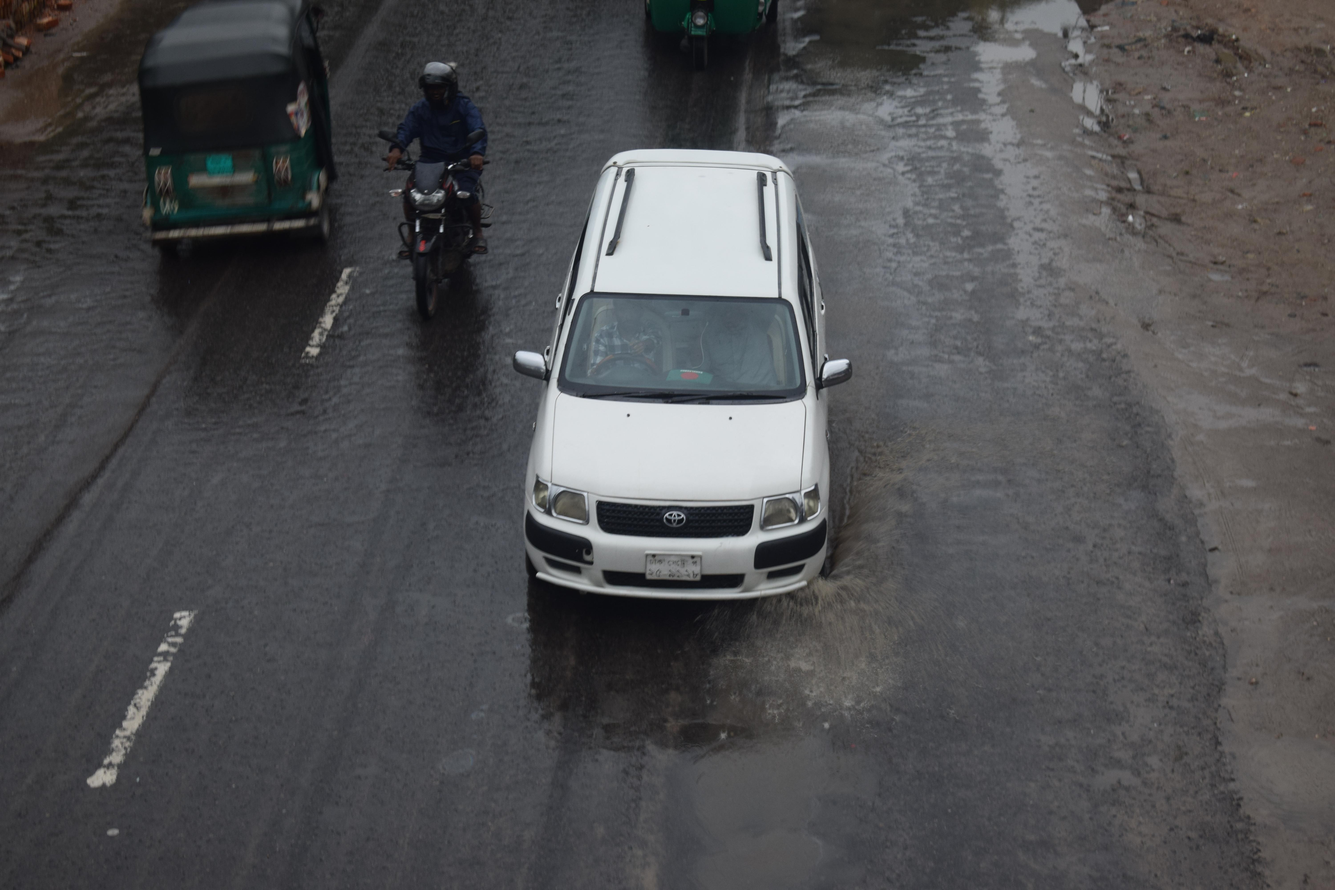Bike: (353, 39, 516, 339)
Car: (499, 117, 876, 649)
